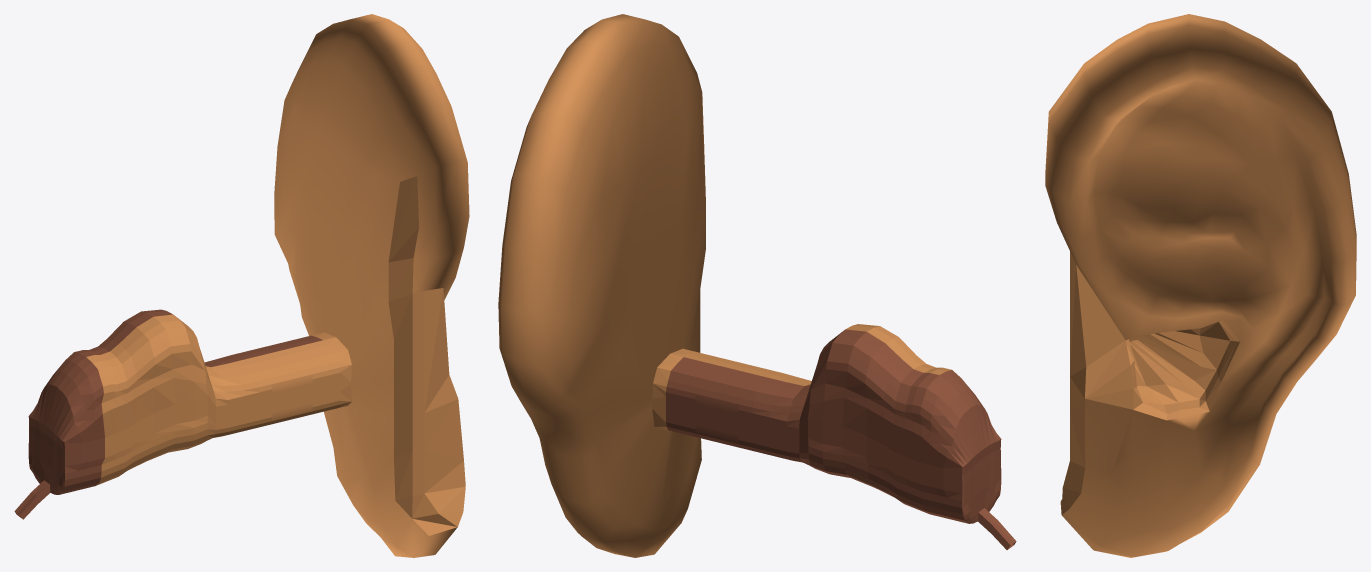
File: Ear Model.FBX
The picture shows the model from 3 angles, left to right: view 1: azimuth 30°, elevation 25°; view 2: azimuth 150°, elevation 25°; view 3: azimuth 270°, elevation 25°; orthographic projection. The views are drawn at different scales.
Visible parts, largest first — view 1: Drum cover002; view 2: Drum cover002; view 3: Drum cover002.
Boxes of the visible parts, x1,y1,x2,y2 form: Drum cover002: (14,14,469,557); Drum cover002: (498,14,1016,557); Drum cover002: (1045,14,1356,557).
Size of the model in its own units: 93.06 by 112 by 59.15.
Materials: 2 (2 with a texture image).
